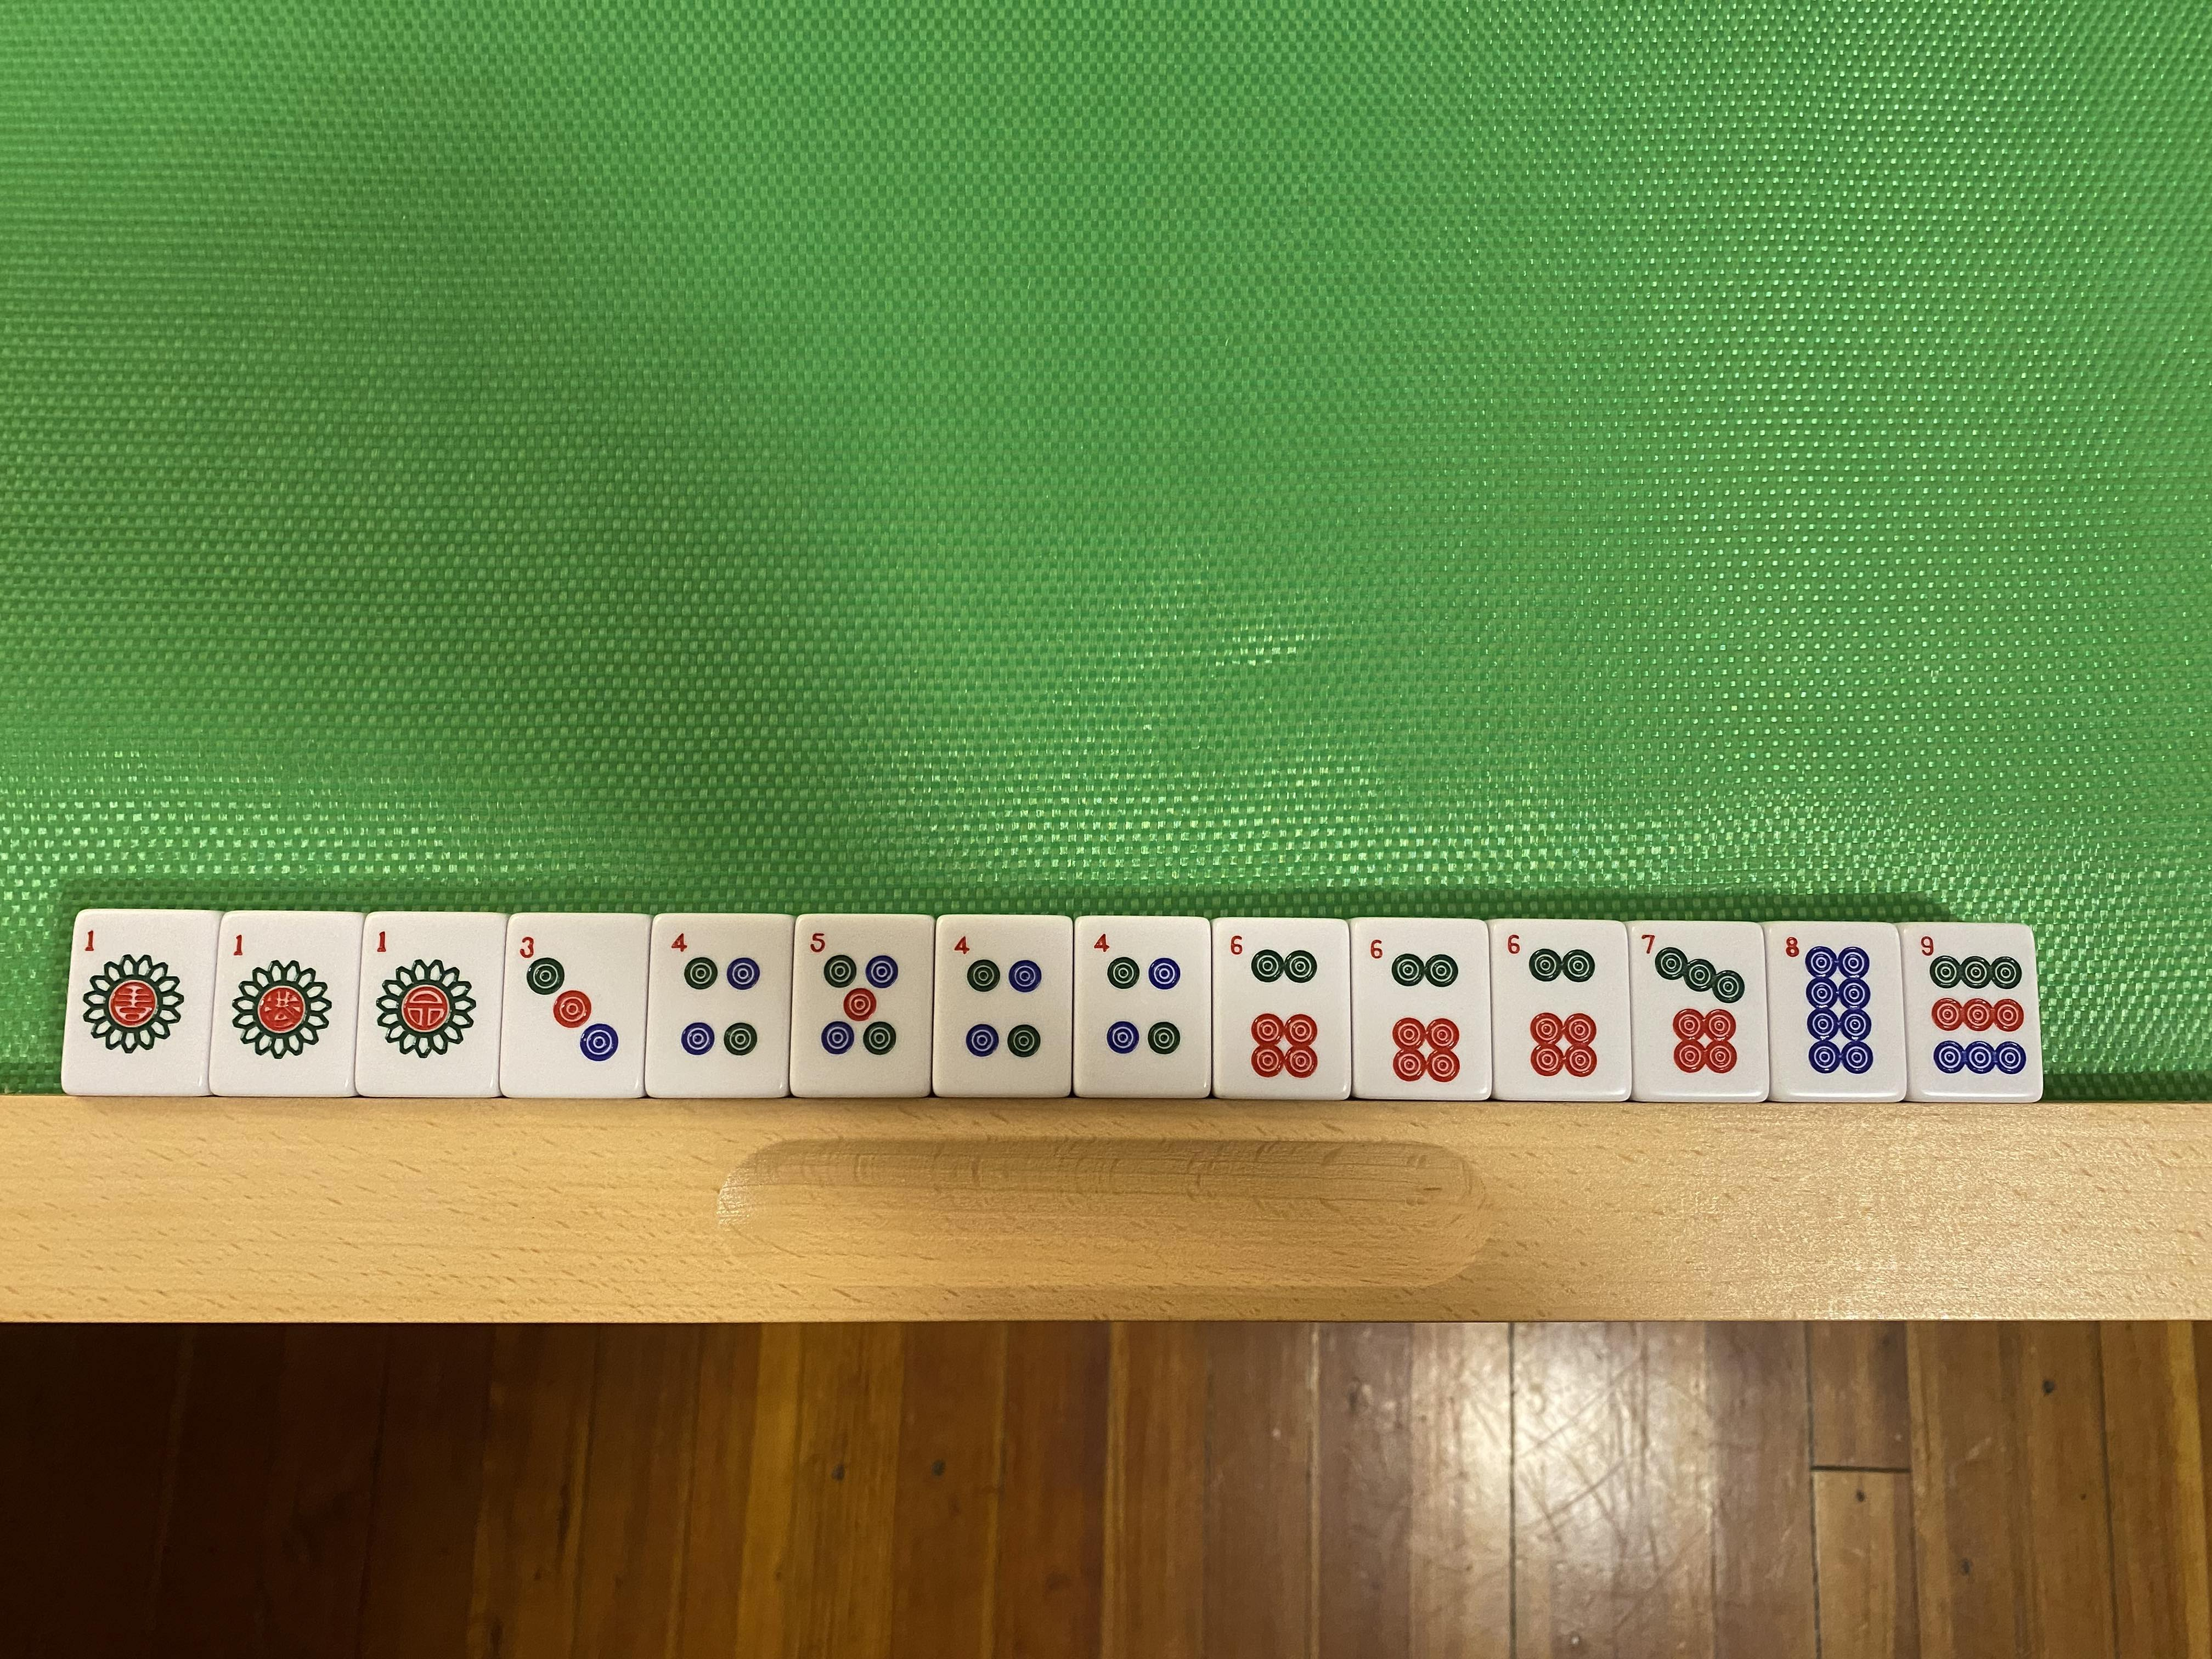circle-eight: (1775, 925, 1897, 1098)
circle-five: (794, 918, 932, 1094)
circle-four: (650, 918, 791, 1094), (935, 918, 1071, 1094), (1075, 920, 1211, 1093)
circle-nine: (1909, 929, 2033, 1096)
circle-one: (214, 915, 359, 1096), (77, 913, 216, 1091), (361, 917, 496, 1096)
circle-seven: (1637, 924, 1761, 1094)
circle-six: (1355, 924, 1487, 1096), (1216, 924, 1348, 1094), (1496, 924, 1627, 1094)
circle-three: (502, 917, 644, 1096)
